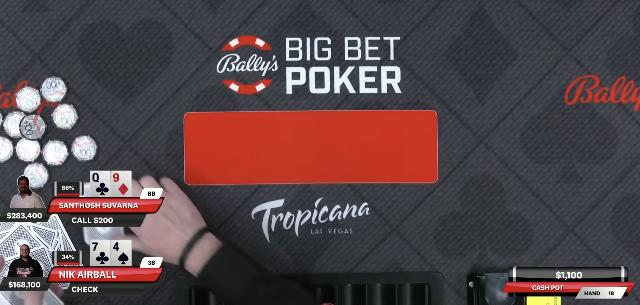4S: (112, 240, 132, 266)
7C: (92, 240, 110, 266)
9D: (113, 171, 131, 197)
QC: (90, 172, 110, 197)
